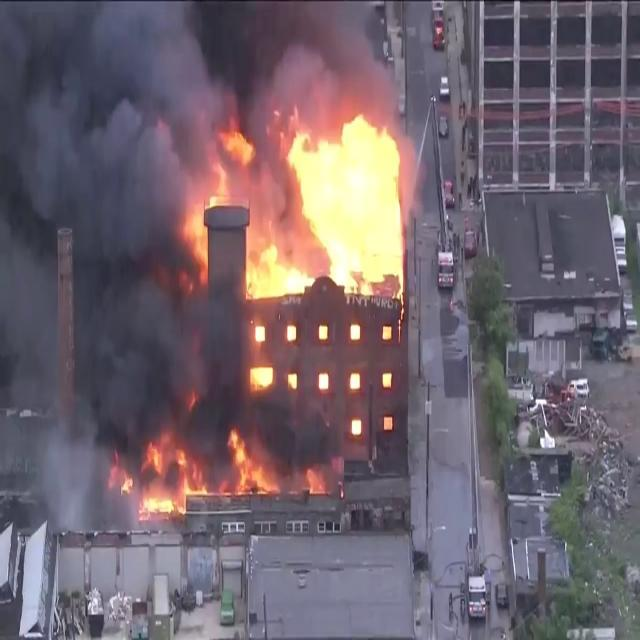Fire: (223, 104, 409, 316), (129, 426, 272, 514)
Smoke: (0, 1, 244, 492)
